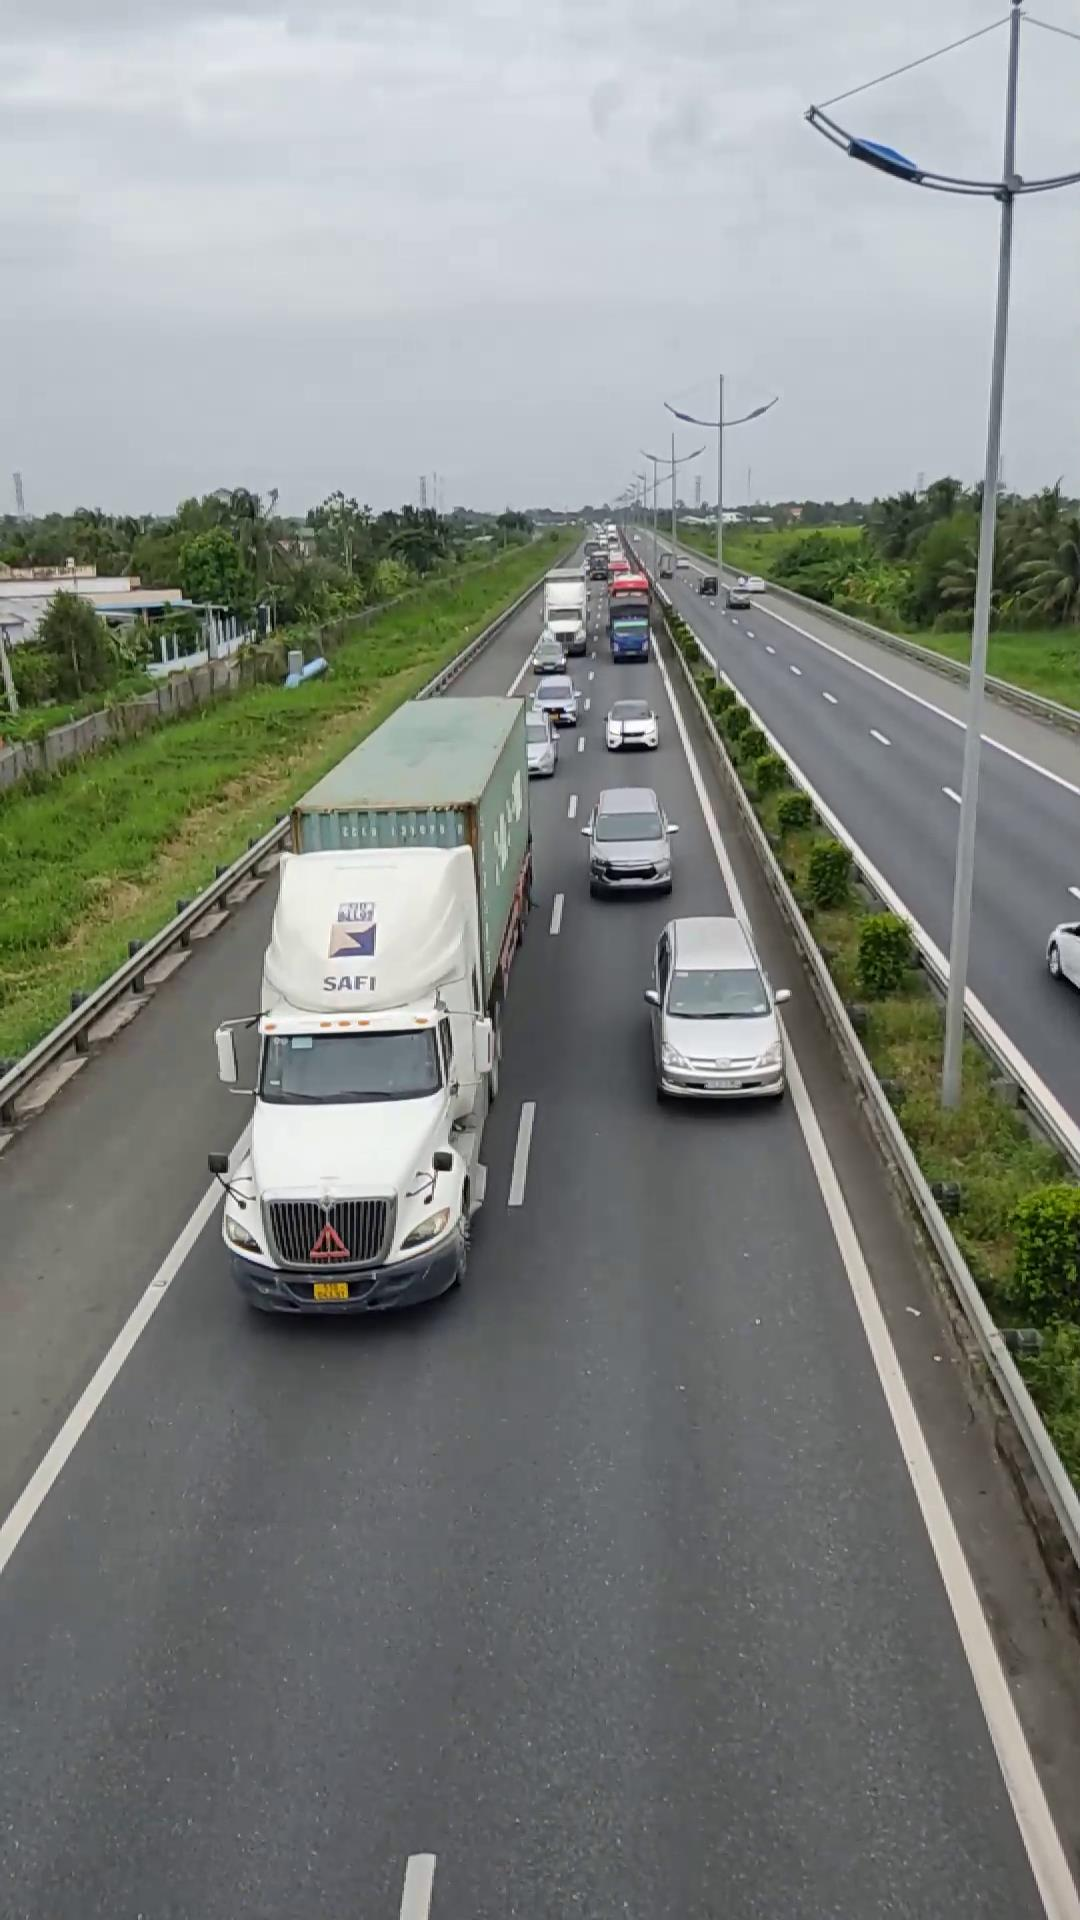car: (644, 913, 789, 1102), (582, 789, 676, 897)
container: (219, 687, 534, 1317)
